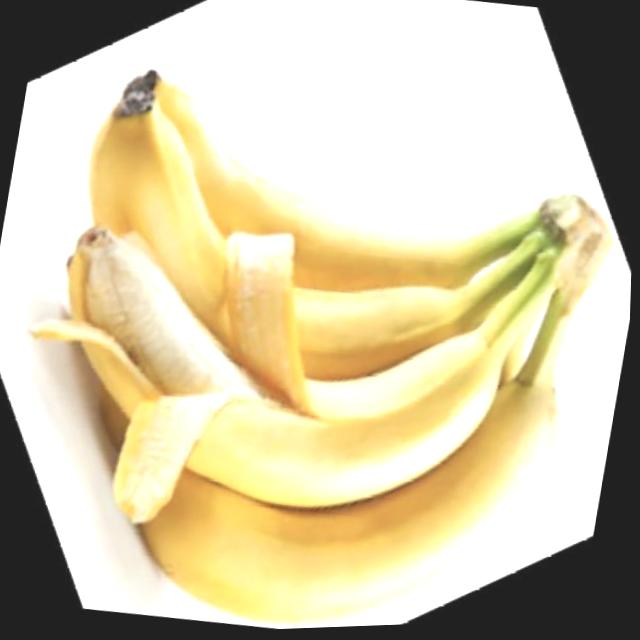Banana: (0, 45, 639, 640)
